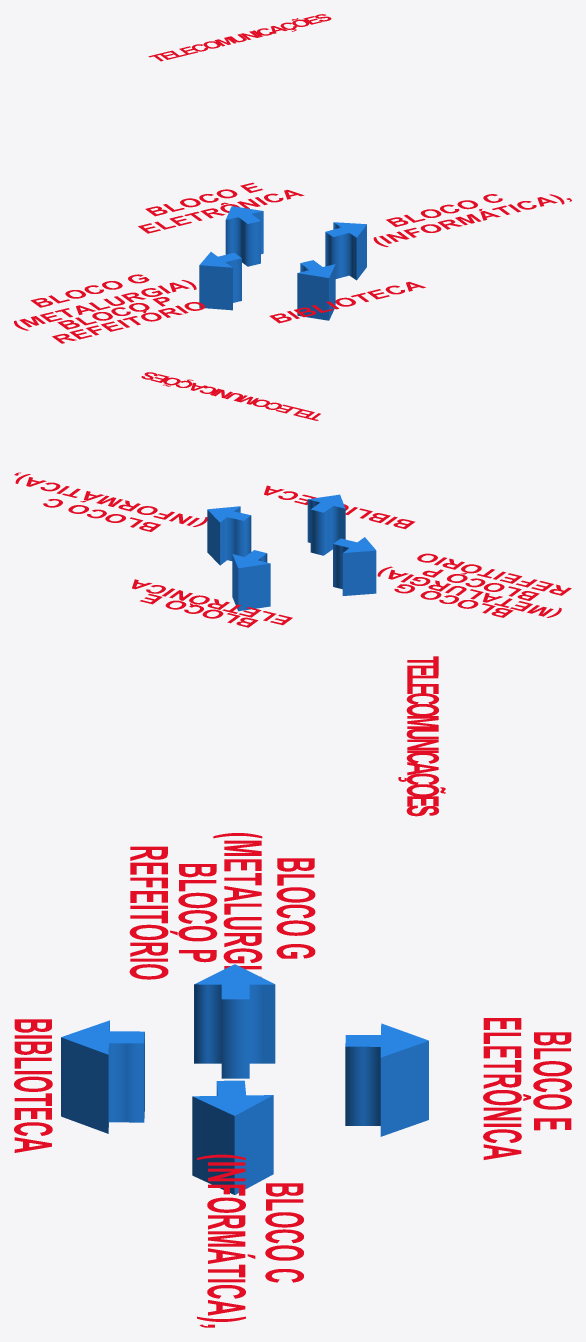
Rendered from Seta bloco E.glb.
The picture shows the model from 3 angles, top to bottom: view 1: azimuth 30°, elevation 25°; view 2: azimuth 150°, elevation 25°; view 3: azimuth 270°, elevation 25°; orthographic projection. The views are drawn at different scales.
Visible parts, largest first — view 1: Curve.002, Curve.003, Curve.004, Curve.001, Texto, Text.005, Texto.001, Texto.003, Text.004, Text, Text.002, Texto.004 (+2 smaller); view 2: Curve.002, Curve.003, Curve.004, Curve.001, Texto, Text.005, Texto.001, Text.004, Texto.003, Text, Texto.004, Text.002 (+2 smaller); view 3: Curve.001, Curve.004, Curve.002, Curve.003, Texto, Text.005, Text.004, Texto.003, Texto.001, Text, Text.002, Texto.004 (+2 smaller).
Boxes of the visible parts, left/top/right/bottom form: Curve.002: left=199, top=252, right=241, bottom=310; Curve.003: left=325, top=222, right=366, bottom=280; Curve.004: left=225, top=206, right=263, bottom=266; Curve.001: left=297, top=260, right=335, bottom=320; Texto: left=373, top=194, right=571, bottom=246; Text.005: left=148, top=14, right=331, bottom=61; Texto.001: left=14, top=280, right=196, bottom=330; Texto.003: left=52, top=302, right=204, bottom=343; Text.004: left=138, top=189, right=304, bottom=233; Text: left=269, top=281, right=425, bottom=323; Text.002: left=30, top=274, right=149, bottom=307; Texto.004: left=145, top=182, right=262, bottom=216; Curve.002: left=333, top=537, right=376, bottom=595; Curve.003: left=207, top=506, right=251, bottom=565; Curve.004: left=232, top=550, right=270, bottom=611; Curve.001: left=307, top=494, right=345, bottom=555; Texto: left=14, top=472, right=207, bottom=526; Text.005: left=141, top=372, right=320, bottom=420; Texto.001: left=377, top=566, right=561, bottom=617; Text.004: left=132, top=579, right=292, bottom=625; Texto.003: left=417, top=553, right=571, bottom=595; Text: left=264, top=485, right=415, bottom=529; Texto.004: left=140, top=593, right=257, bottom=627; Text.002: left=394, top=584, right=513, bottom=617; Curve.001: left=61, top=1020, right=144, bottom=1133; Curve.004: left=345, top=1023, right=428, bottom=1136; Curve.002: left=194, top=964, right=275, bottom=1078; Curve.003: left=192, top=1080, right=273, bottom=1194; Texto: left=197, top=1154, right=255, bottom=1327; Text.005: left=398, top=656, right=445, bottom=816; Text.004: left=483, top=1018, right=530, bottom=1159; Texto.003: left=129, top=846, right=177, bottom=979; Texto.001: left=213, top=833, right=262, bottom=977; Text: left=14, top=1019, right=52, bottom=1152; Text.002: left=276, top=858, right=315, bottom=958; Texto.004: left=533, top=1032, right=571, bottom=1130.
Size of the model in its own units: 4.68 by 1.72 by 2.23.
